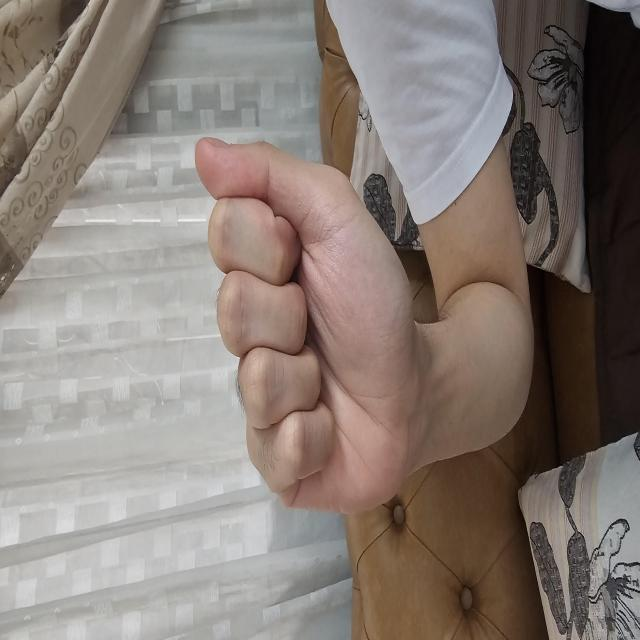A: (124, 194, 507, 410)
